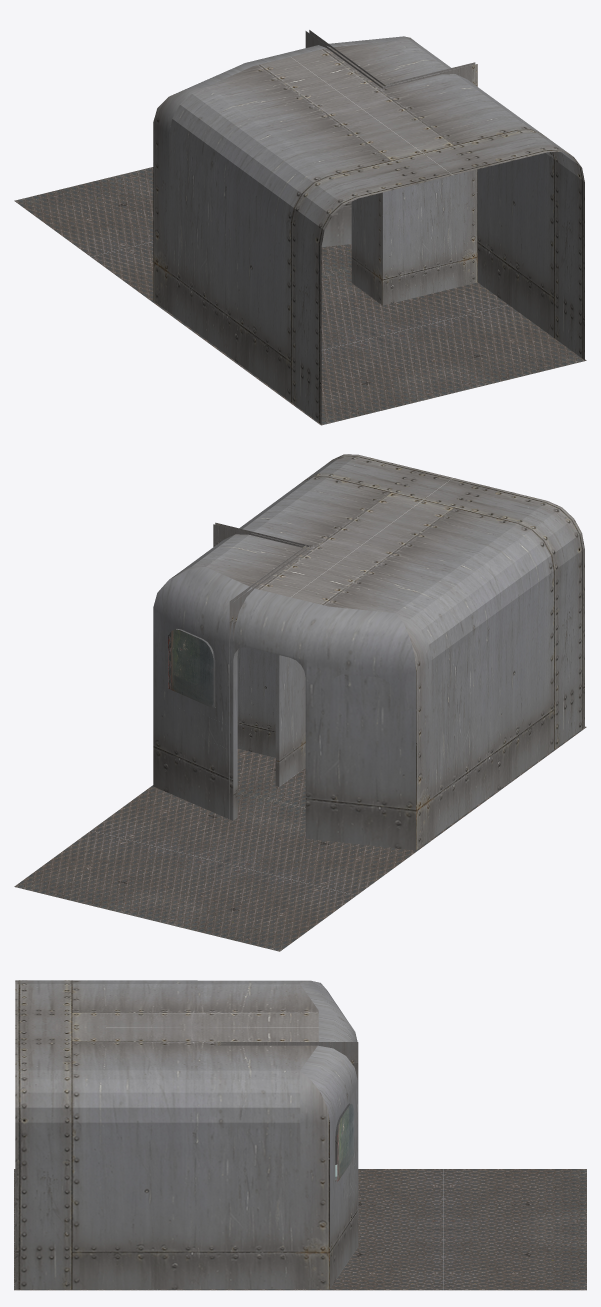
The model's file is Train_Inside.fbx.
3 views of the same model, one above another, from view 1: azimuth 30°, elevation 25°; view 2: azimuth 150°, elevation 25°; view 3: azimuth 270°, elevation 25° (orthographic). The views are drawn at different scales.
Parts seen in each view (by area): view 1: Wall.Main, Floor.Main, Wall.Driver.Back, Wall.Front, Wall.Driver.Side; view 2: Wall.Main, Wall.Front, Floor.Main, Wall.Driver.Side, Wall.Driver.Back, Window.False, Window.Driver; view 3: Wall.Main, Floor.Main, Wall.Front, Wall.Driver.Side, Window.Driver.
Part boxes in pixels (x1,y1,x2,y2): Wall.Main: [169, 40, 584, 424]; Floor.Main: [14, 167, 586, 425]; Wall.Driver.Back: [384, 62, 477, 304]; Wall.Front: [153, 36, 420, 312]; Wall.Driver.Side: [305, 30, 386, 305]; Wall.Main: [176, 454, 584, 838]; Wall.Front: [153, 566, 431, 850]; Floor.Main: [14, 726, 586, 951]; Wall.Driver.Side: [229, 545, 310, 820]; Wall.Driver.Back: [213, 522, 306, 757]; Window.False: [330, 674, 393, 742]; Window.Driver: [168, 629, 213, 708]; Wall.Main: [15, 980, 300, 1289]; Floor.Main: [14, 1169, 586, 1290]; Wall.Front: [300, 980, 357, 1289]; Wall.Driver.Side: [214, 1042, 358, 1247]; Window.Driver: [337, 1104, 354, 1182].
Bounding box in the file's own units: 1.43 × 1.1 × 2.8.
